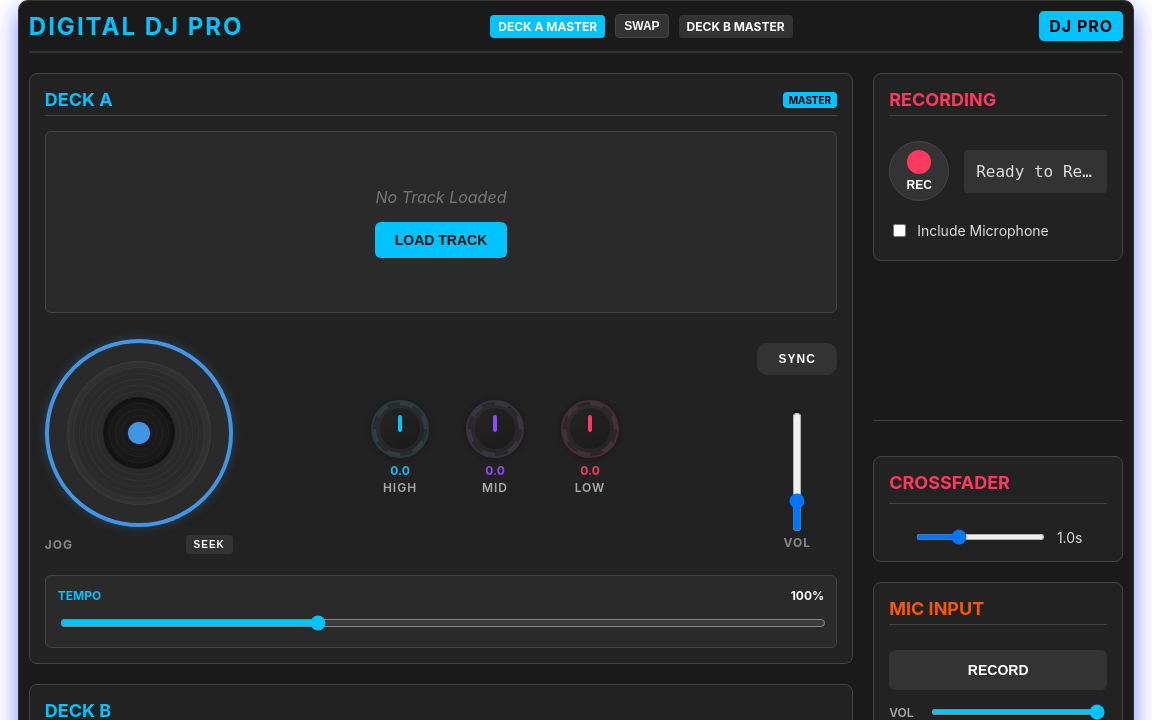
Test: DJController Component › should change fade duration value when adjusted
# Change the value
Set the slider next to "1.0" to "2.5" at (1017,537), box [916, 534, 1045, 540]
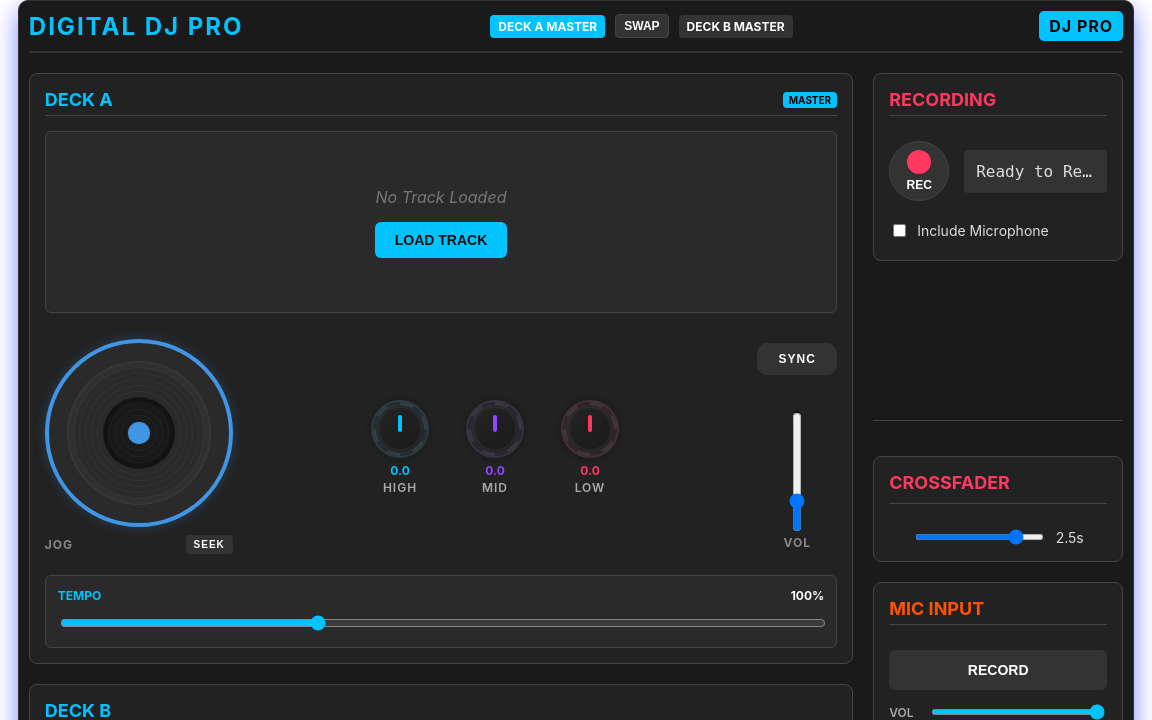
Result: the text "2.5s" is shown at [1056, 529, 1084, 546]
